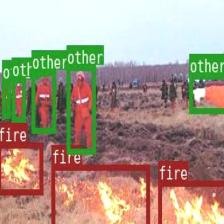fire: (50, 163, 149, 224), (158, 179, 224, 224), (0, 142, 42, 193)
